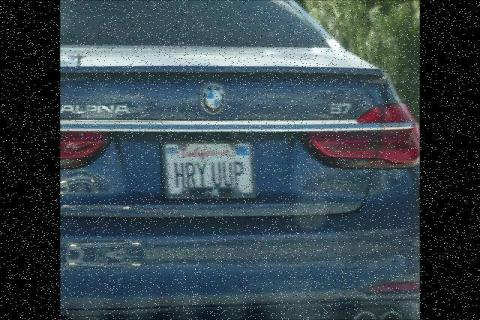LicensePlate: (150, 136, 272, 210)
